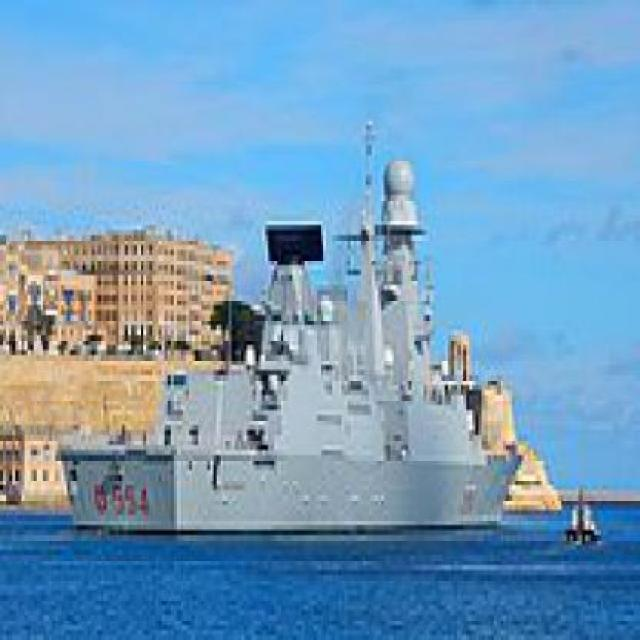warship2: (44, 91, 544, 582)
